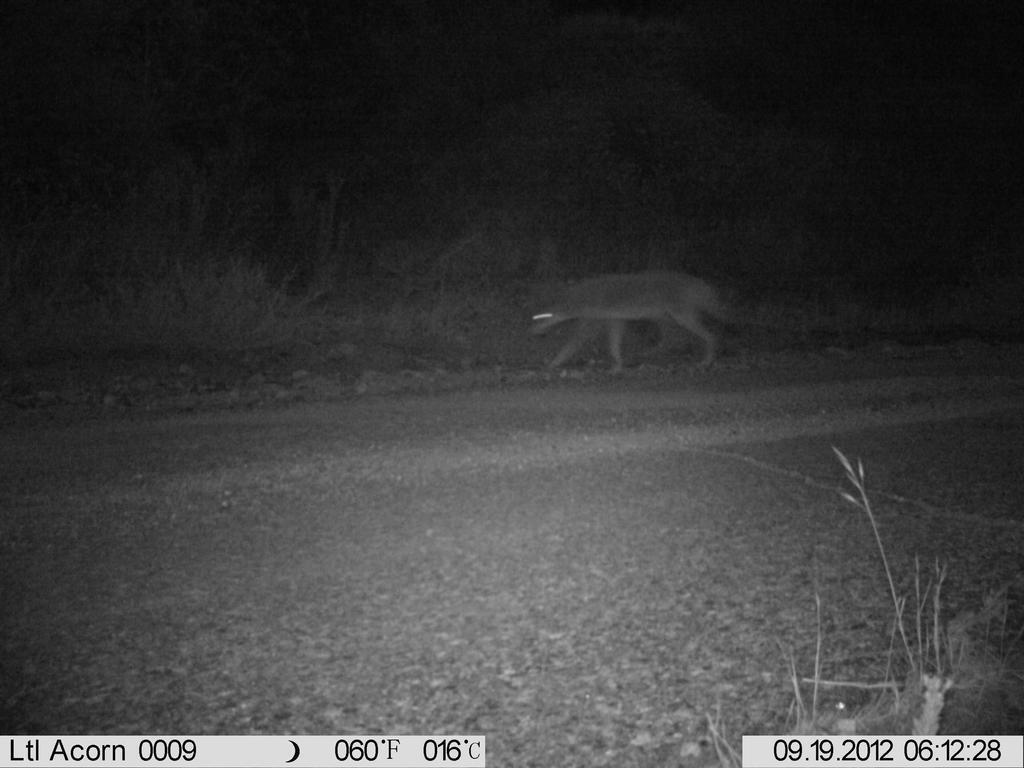coyote: (502, 263, 772, 386)
